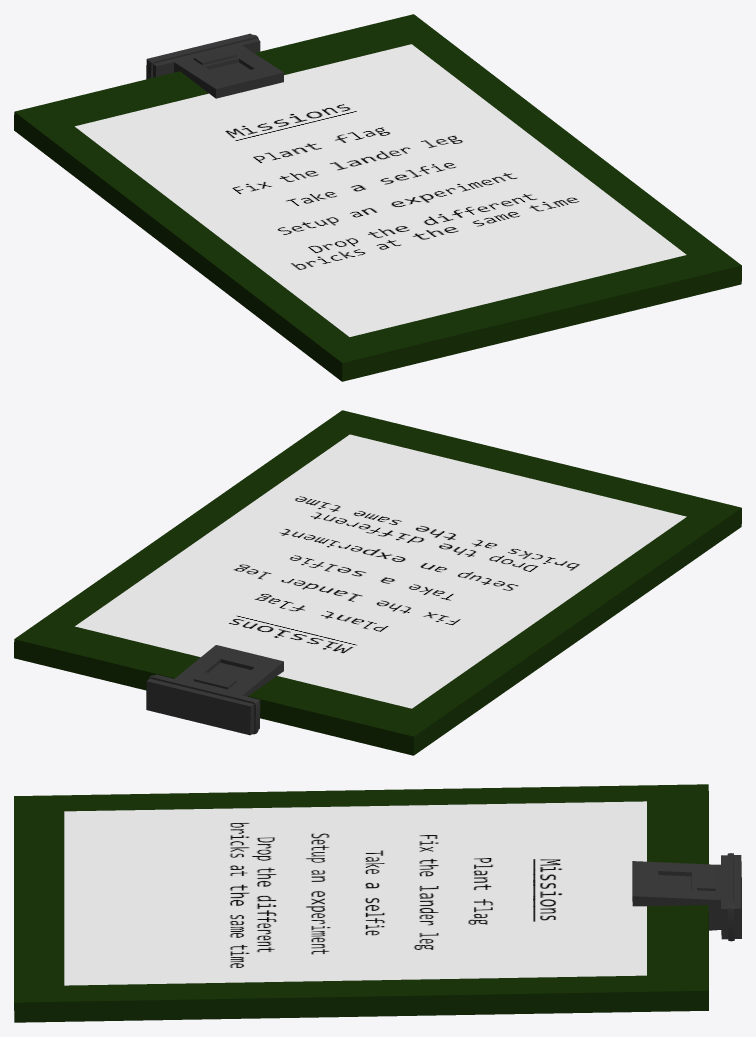
The model's file is ClipboardFinal.FBX.
The picture shows the model from 3 angles, top to bottom: view 1: azimuth 30°, elevation 25°; view 2: azimuth 150°, elevation 25°; view 3: azimuth 270°, elevation 25°; orthographic projection. The views are drawn at different scales.
Visible parts, largest first — view 1: clipboard; view 2: clipboard; view 3: clipboard.
Part boxes in pixels (x1,y1,x2,y2): clipboard: (14, 14, 741, 381); clipboard: (14, 410, 741, 755); clipboard: (14, 784, 741, 1022).
Bounding box in the file's own units: 3.49 × 0.3222 × 5.2.
